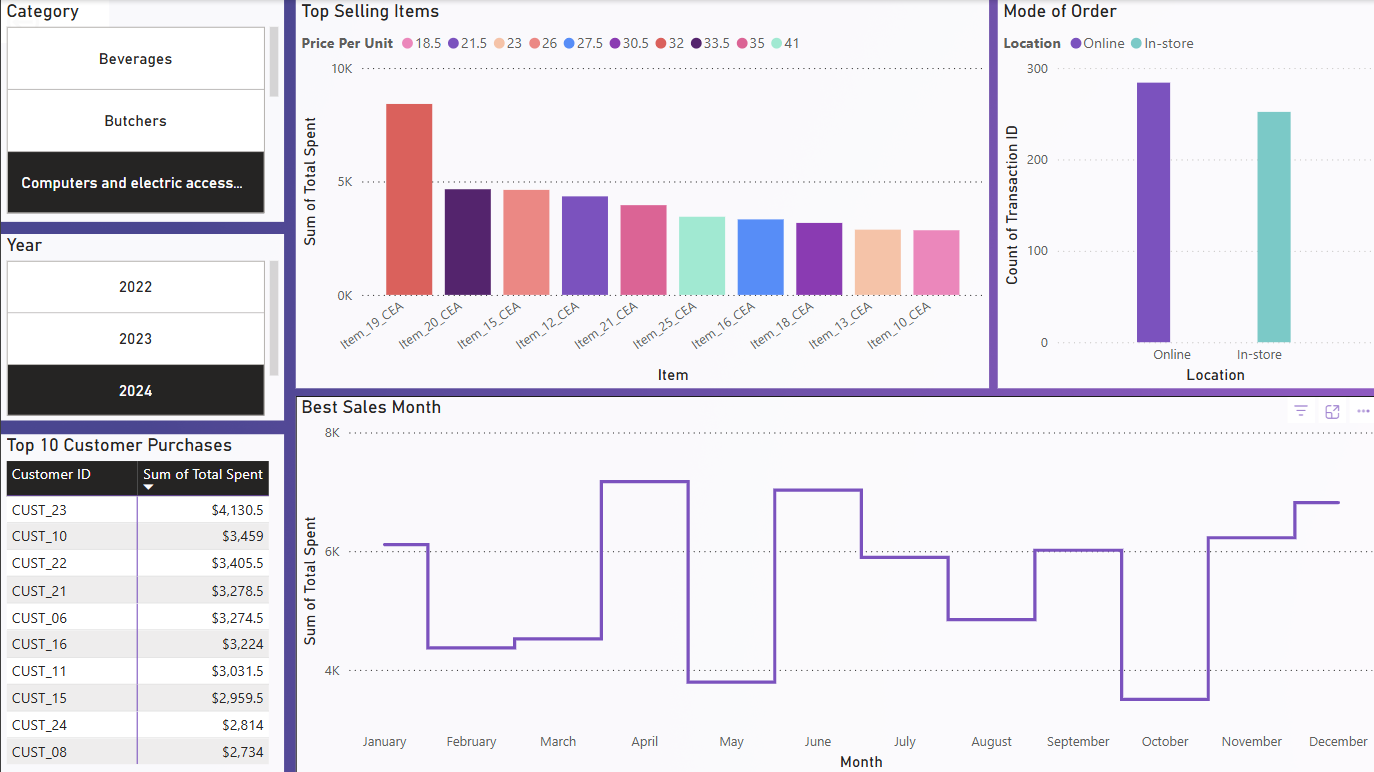

The dashboard page shown, as its layout file describes it:
{"tool":"powerbi","page":{"name":"Customer Behavior Analysis","canvas":[1280,720],"ordinal":1},"visuals":[{"type":"pivotTable","title":"Top 10 Customer Purchases","fields":{"Rows":["visual_retail_sales_data.Customer ID"],"Values":["Sum(visual_retail_sales_data.Total Spent)"]},"box":[0,403.6,263.5,316.8],"z":0},{"type":"columnChart","title":"Top Selling Items","fields":{"Y":["Sum(visual_retail_sales_data.Total Spent)"],"Category":["visual_retail_sales_data.Item"],"Series":["visual_retail_sales_data.Price Per Unit"]},"box":[274,0,644.1,360.8],"z":1000},{"type":"lineChart","title":"Best Sales Month","fields":{"Category":["visual_retail_sales_data.Year-Month.Variation.Date Hierarchy.Month"],"Y":["Sum(visual_retail_sales_data.Total Spent)"]},"box":[274,368.1,1005.9,352.4],"z":2000},{"type":"clusteredColumnChart","title":"Mode of Order","fields":{"Category":["visual_retail_sales_data.Location"],"Y":["CountNonNull(visual_retail_sales_data.Transaction ID)"],"Series":["visual_retail_sales_data.Location"]},"box":[926.5,0,353.4,360.8],"z":3000},{"type":"actionButton","box":[0,0,100,40],"z":4000},{"type":"advancedSlicerVisual","fields":{"Values":["visual_retail_sales_data.Year-Month.Variation.Date Hierarchy.Year"]},"box":[0,217.5,263.5,173.6],"z":5000},{"type":"advancedSlicerVisual","fields":{"Values":["visual_retail_sales_data.Category"]},"box":[0,0,263.5,206],"z":6000}]}

Visuals, with their boxes in screenshot pixels (x1, y1, x2, y2), scaled from the page's 1280x720 canvas onto the 1374x772 screenshot:
"Top 10 Customer Purchases" pivotTable: rect(0, 433, 283, 771)
"Top Selling Items" columnChart: rect(294, 0, 986, 387)
"Best Sales Month" lineChart: rect(294, 395, 1373, 771)
"Mode of Order" clusteredColumnChart: rect(995, 0, 1373, 387)
actionButton: rect(0, 0, 107, 43)
advancedSlicerVisual - visual_retail_sales_data.Year-Month.Variation.Date Hierarchy.Year: rect(0, 233, 283, 419)
advancedSlicerVisual - visual_retail_sales_data.Category: rect(0, 0, 283, 221)
